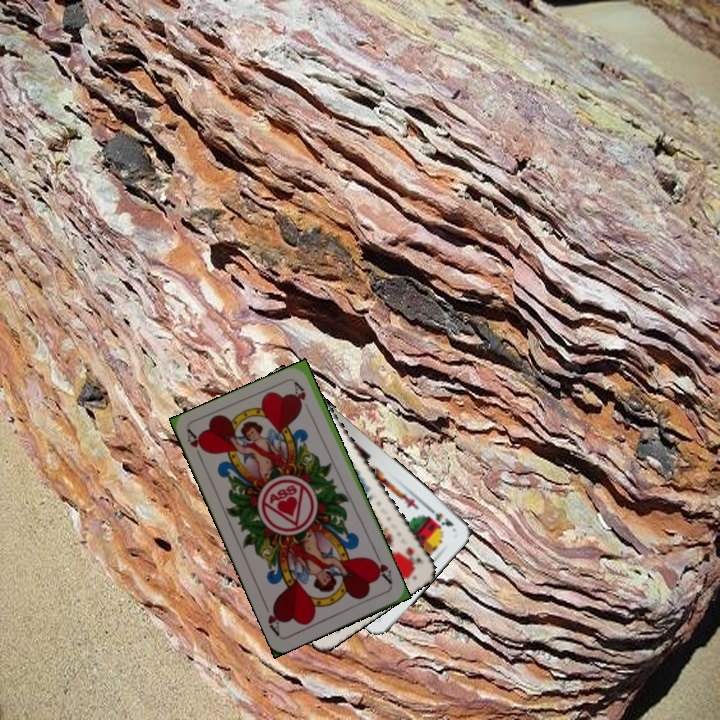HA: (367, 550, 395, 588), (183, 426, 209, 465)
HK: (402, 543, 424, 571)
SK: (422, 502, 456, 529)
